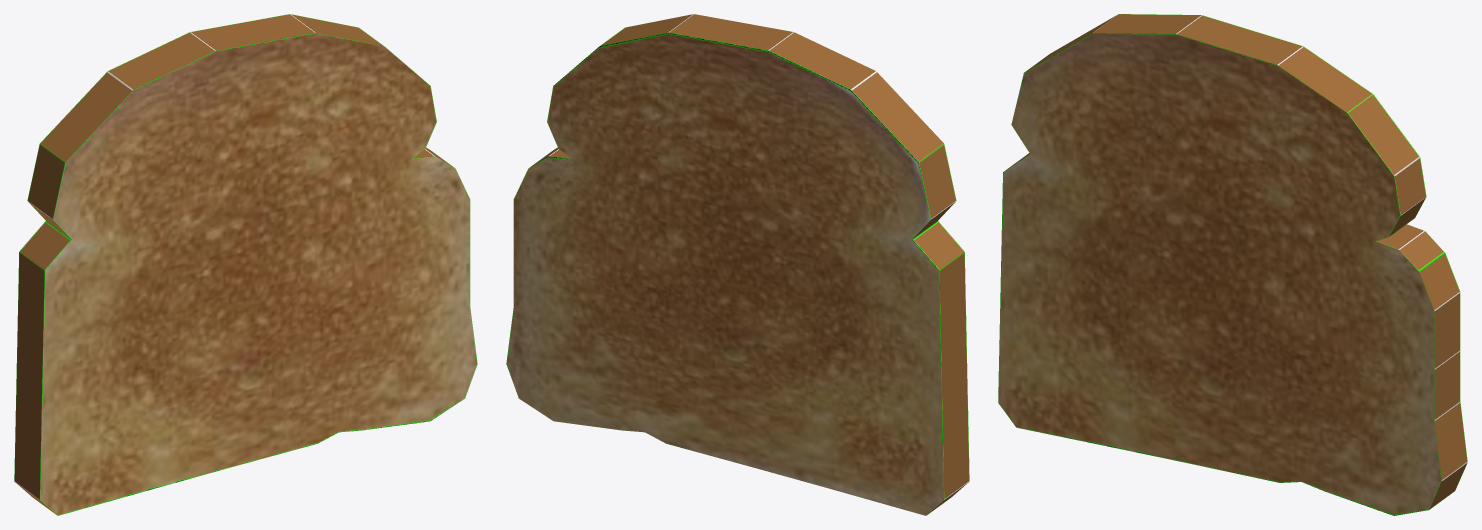
Rendered from toast.FBX.
3 renders of one model, left to right at view 1: azimuth 30°, elevation 25°; view 2: azimuth 150°, elevation 25°; view 3: azimuth 330°, elevation 25°, orthographic.
Parts seen in each view (by area): view 1: Line001; view 2: Line001; view 3: Line001.
Boxes of the visible parts, box(x1,y1,x2,y2) form: Line001: box(14, 14, 477, 515); Line001: box(506, 14, 969, 515); Line001: box(998, 14, 1467, 515).
Bounding box in the file's own units: 88.89 × 82.8 × 9.
